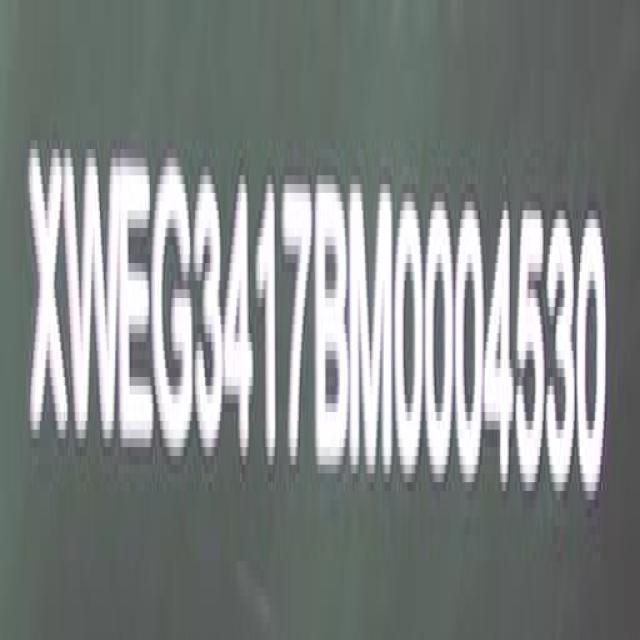0: (393, 188, 427, 485), (455, 196, 486, 492), (425, 195, 455, 490), (579, 217, 610, 498)
1: (256, 171, 279, 472)
3: (195, 165, 228, 465), (549, 208, 578, 495)
4: (483, 200, 515, 493), (223, 172, 254, 472)
5: (516, 207, 548, 493)
7: (283, 174, 316, 481)
B: (314, 176, 350, 480)
E: (117, 149, 156, 461)
G: (154, 154, 196, 462)
M: (349, 176, 393, 482)
W: (68, 146, 122, 457)
X: (32, 141, 69, 452)
